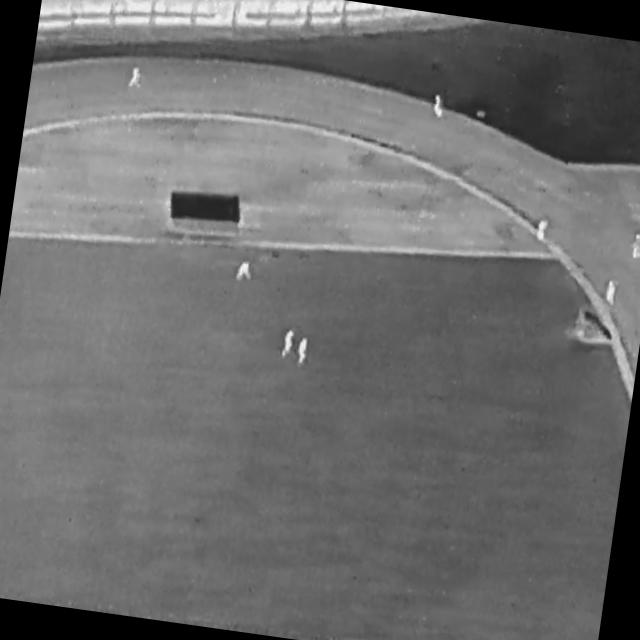person: (237, 261, 255, 284), (283, 330, 296, 360), (129, 67, 145, 90), (298, 339, 311, 367), (606, 281, 618, 307), (434, 95, 446, 120), (537, 220, 550, 242), (631, 234, 640, 261)
